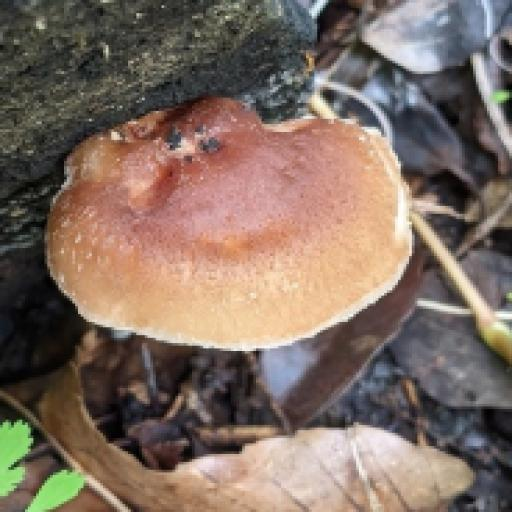Shiitake Mushroom: (52, 107, 421, 351)
